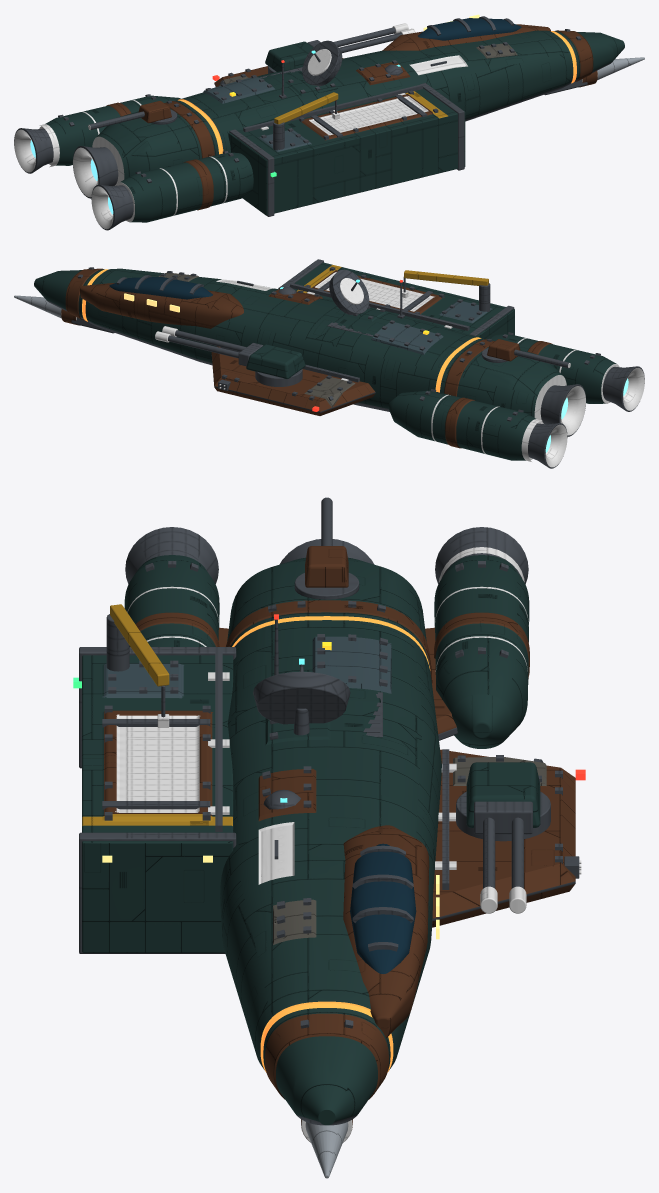
File: drifter_production_v1.glb
3 views of the same model, one above another, from view 1: azimuth 30°, elevation 25°; view 2: azimuth 150°, elevation 25°; view 3: azimuth 270°, elevation 25° (orthographic). The views are drawn at different scales.
Visible parts, largest first — view 1: LOD0_MOTION_HULL_CORE_Hull, LOD0_MOTION_HULL_CORE_Mechanical, LOD0_MOTION_HULL_CORE_MechanicalDark, LOD0_MOTION_HULL_CORE_Armor, LOD0_MOTION_HULL_CORE_Livery, LOD0_MOTION_HULL_CORE_CANOPY, LOD0_MOTION_HULL_CORE_Hull_patch, LOD0_MOTION_HULL_CORE_HOOK_SENSOR_DISH_Mechanical, LOD0_MOTION_HULL_CORE_HOOK_SECONDARY_TURRET_Hull, LOD0_MOTION_HULL_CORE_HOOK_SECONDARY_TURRET_Mechanical, LOD0_MOTION_HULL_CORE_HOOK_SECONDARY_CRANE_Warning, LOD0_MOTION_HULL_CORE_Lights_Cyan_copper (+4 smaller); view 2: LOD0_MOTION_HULL_CORE_Hull, LOD0_MOTION_HULL_CORE_Armor, LOD0_MOTION_HULL_CORE_Mechanical, LOD0_MOTION_HULL_CORE_MechanicalDark, LOD0_MOTION_HULL_CORE_Livery, LOD0_MOTION_HULL_CORE_Hull_patch, LOD0_MOTION_HULL_CORE_HOOK_SECONDARY_TURRET_Mechanical, LOD0_MOTION_HULL_CORE_HOOK_SECONDARY_TURRET_Hull, LOD0_MOTION_HULL_CORE_CANOPY, LOD0_MOTION_HULL_CORE_HOOK_SENSOR_DISH_Mechanical, LOD0_MOTION_HULL_CORE_Hull_primer, LOD0_MOTION_HULL_CORE_HOOK_SECONDARY_CRANE_Warning (+4 smaller); view 3: LOD0_MOTION_HULL_CORE_Hull, LOD0_MOTION_HULL_CORE_Armor, LOD0_MOTION_HULL_CORE_Mechanical, LOD0_MOTION_HULL_CORE_MechanicalDark, LOD0_MOTION_HULL_CORE_Livery, LOD0_MOTION_HULL_CORE_CANOPY, LOD0_MOTION_HULL_CORE_Hull_patch, LOD0_MOTION_HULL_CORE_HOOK_SENSOR_DISH_Mechanical, LOD0_MOTION_HULL_CORE_HOOK_SECONDARY_TURRET_Mechanical, LOD0_MOTION_HULL_CORE_HOOK_SECONDARY_TURRET_Hull, LOD0_MOTION_HULL_CORE_Hull_primer, LOD0_MOTION_HULL_CORE_Lights_Cyan_copper (+5 smaller).
Boxes of the visible parts, x1,y1,x2,y2 form: LOD0_MOTION_HULL_CORE_Hull: (45,30,624,222); LOD0_MOTION_HULL_CORE_Mechanical: (14,16,623,230); LOD0_MOTION_HULL_CORE_MechanicalDark: (14,55,597,229); LOD0_MOTION_HULL_CORE_Armor: (138,24,597,140); LOD0_MOTION_HULL_CORE_Livery: (106,30,593,210); LOD0_MOTION_HULL_CORE_CANOPY: (418,18,521,40); LOD0_MOTION_HULL_CORE_Hull_patch: (203,77,311,151); LOD0_MOTION_HULL_CORE_HOOK_SENSOR_DISH_Mechanical: (302,40,342,86); LOD0_MOTION_HULL_CORE_HOOK_SECONDARY_TURRET_Hull: (265,41,313,71); LOD0_MOTION_HULL_CORE_HOOK_SECONDARY_TURRET_Mechanical: (268,27,402,73); LOD0_MOTION_HULL_CORE_HOOK_SECONDARY_CRANE_Warning: (274,92,338,124); LOD0_MOTION_HULL_CORE_Lights_Cyan_copper: (178,31,576,154); LOD0_MOTION_HULL_CORE_Hull: (34,261,616,460); LOD0_MOTION_HULL_CORE_Armor: (61,270,520,415); LOD0_MOTION_HULL_CORE_Mechanical: (41,259,644,468); LOD0_MOTION_HULL_CORE_MechanicalDark: (61,272,644,467); LOD0_MOTION_HULL_CORE_Livery: (65,268,552,448); LOD0_MOTION_HULL_CORE_Hull_patch: (371,301,492,354); LOD0_MOTION_HULL_CORE_HOOK_SECONDARY_TURRET_Mechanical: (168,330,302,386); LOD0_MOTION_HULL_CORE_HOOK_SECONDARY_TURRET_Hull: (246,344,305,378); LOD0_MOTION_HULL_CORE_CANOPY: (109,277,212,299); LOD0_MOTION_HULL_CORE_HOOK_SENSOR_DISH_Mechanical: (329,269,369,314); LOD0_MOTION_HULL_CORE_Hull_primer: (158,272,355,407); LOD0_MOTION_HULL_CORE_HOOK_SECONDARY_CRANE_Warning: (404,270,488,285); LOD0_MOTION_HULL_CORE_Hull: (82,555,529,1125); LOD0_MOTION_HULL_CORE_Armor: (104,546,575,1127); LOD0_MOTION_HULL_CORE_Mechanical: (79,497,579,1125); LOD0_MOTION_HULL_CORE_MechanicalDark: (115,547,581,1142); LOD0_MOTION_HULL_CORE_Livery: (135,600,529,1099); LOD0_MOTION_HULL_CORE_CANOPY: (350,843,416,973); LOD0_MOTION_HULL_CORE_Hull_patch: (102,636,391,698); LOD0_MOTION_HULL_CORE_HOOK_SENSOR_DISH_Mechanical: (253,664,350,735); LOD0_MOTION_HULL_CORE_HOOK_SECONDARY_TURRET_Mechanical: (456,791,550,888); LOD0_MOTION_HULL_CORE_HOOK_SECONDARY_TURRET_Hull: (466,762,540,827); LOD0_MOTION_HULL_CORE_Hull_primer: (273,757,546,944); LOD0_MOTION_HULL_CORE_Lights_Cyan_copper: (232,616,430,1072).
Size of what is drawn, in the model's own units: 18.62 by 3.36 by 7.11.
17 materials, 9 textured.
